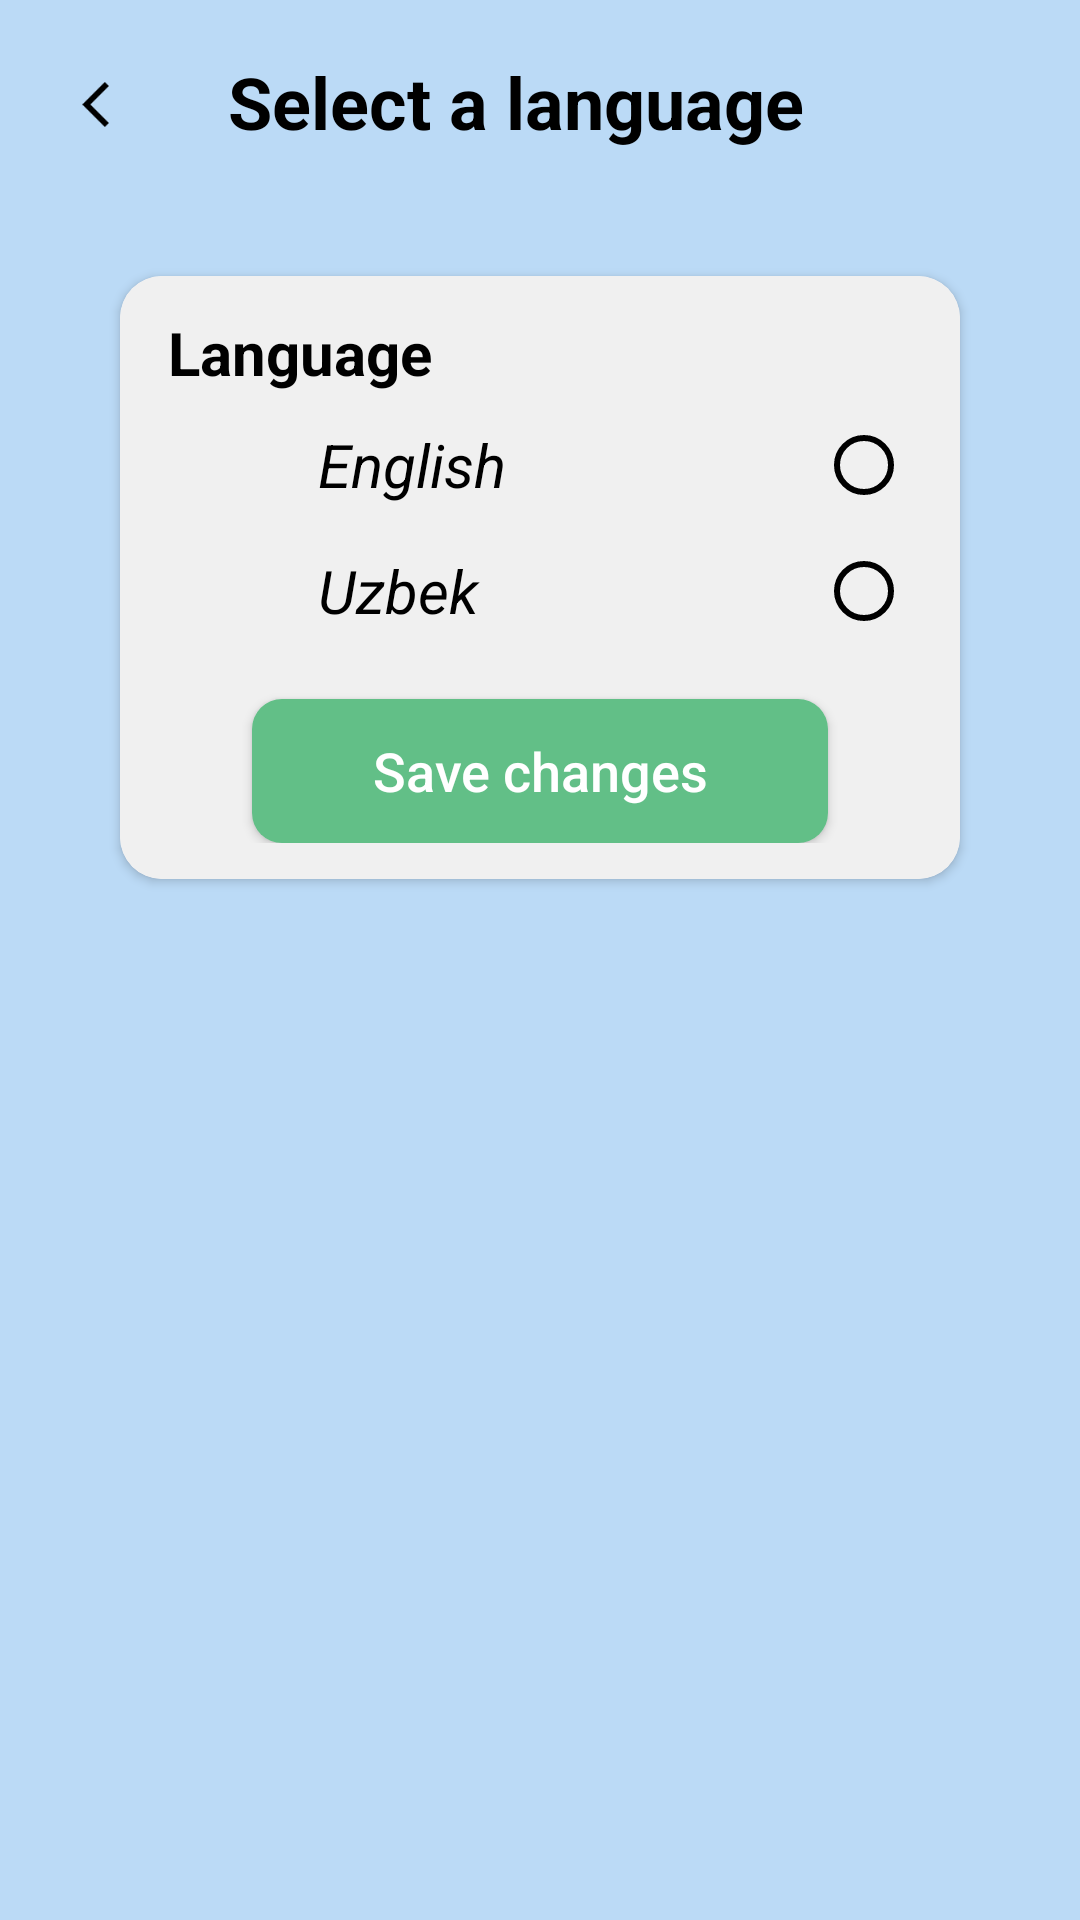

Icons on this 1080 × 1920 Android screen, each with its box as (x1, y1, x2, y2):
back: (82, 82, 109, 127)
